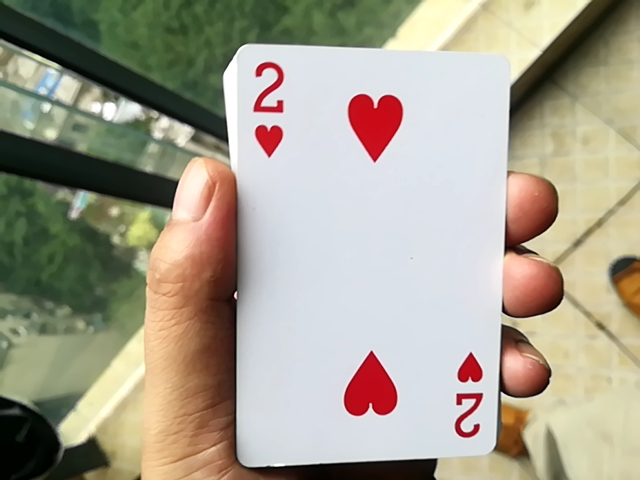hx 2: (210, 44, 505, 474)
